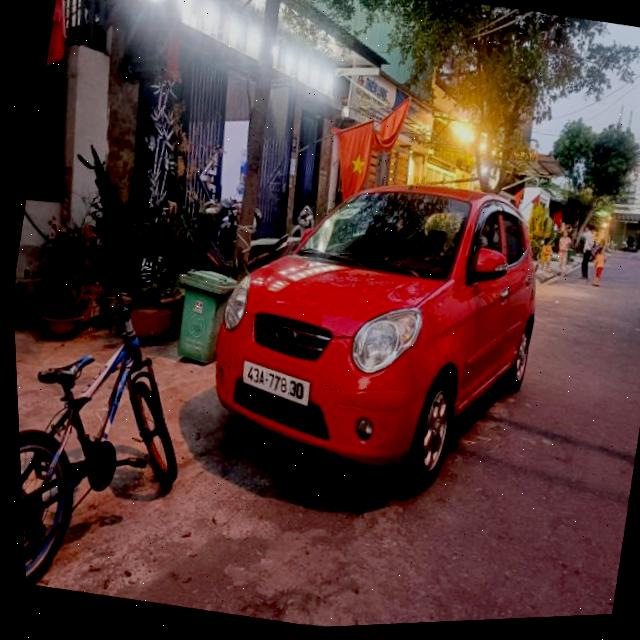car: (189, 140, 573, 513)
motorcycle: (12, 267, 229, 610)
plate: (233, 354, 320, 414)
